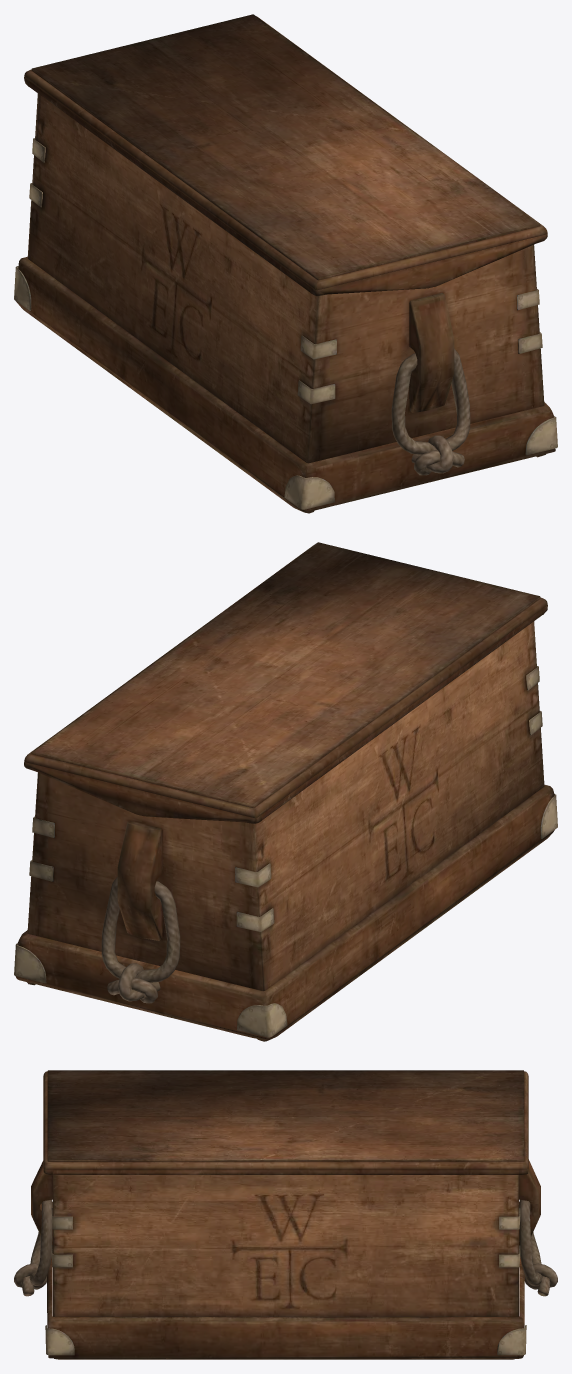
File: wooden_crate_02.lite.glb
The picture shows the model from 3 angles, top to bottom: view 1: azimuth 30°, elevation 25°; view 2: azimuth 150°, elevation 25°; view 3: azimuth 270°, elevation 25°; orthographic projection. The views are drawn at different scales.
Parts seen in each view (by area): view 1: wooden_crate_02_crate; view 2: wooden_crate_02_crate; view 3: wooden_crate_02_crate.
Part boxes in pixels (x1,y1,x2,y2): wooden_crate_02_crate: [14, 14, 557, 513]; wooden_crate_02_crate: [14, 542, 557, 1041]; wooden_crate_02_crate: [14, 1070, 557, 1359].
Bounding box in the file's own units: 0.5291 × 0.464 × 1.17.
1 material, 1 textured.
